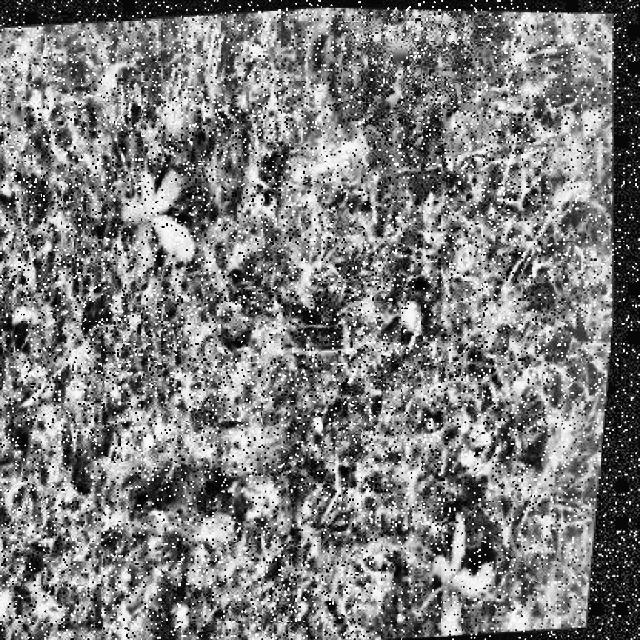Weeds: (427, 508, 518, 638), (116, 164, 207, 276)
